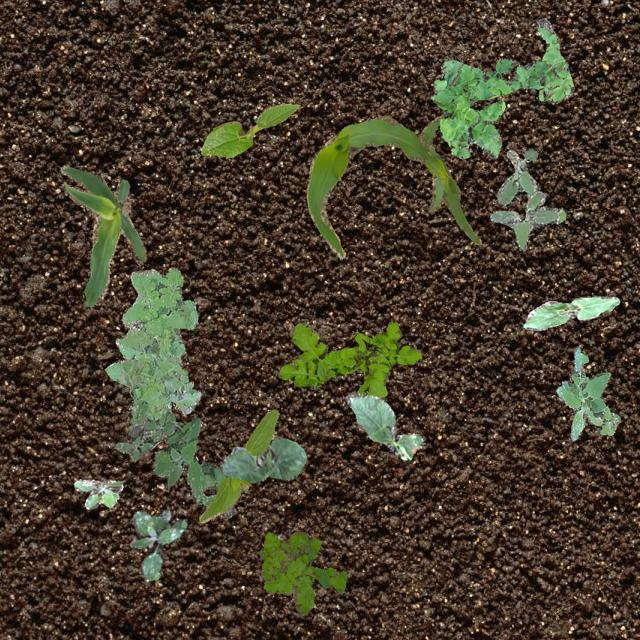crop: (306, 114, 480, 258), (59, 164, 144, 306), (198, 408, 278, 522), (200, 102, 298, 156), (346, 392, 424, 458), (220, 436, 306, 482), (522, 294, 618, 330)
weed: (429, 16, 574, 158), (104, 268, 200, 420), (114, 399, 232, 516), (278, 321, 420, 398), (488, 147, 564, 250), (258, 530, 346, 614), (556, 346, 618, 439), (130, 508, 184, 580), (72, 478, 122, 508)
